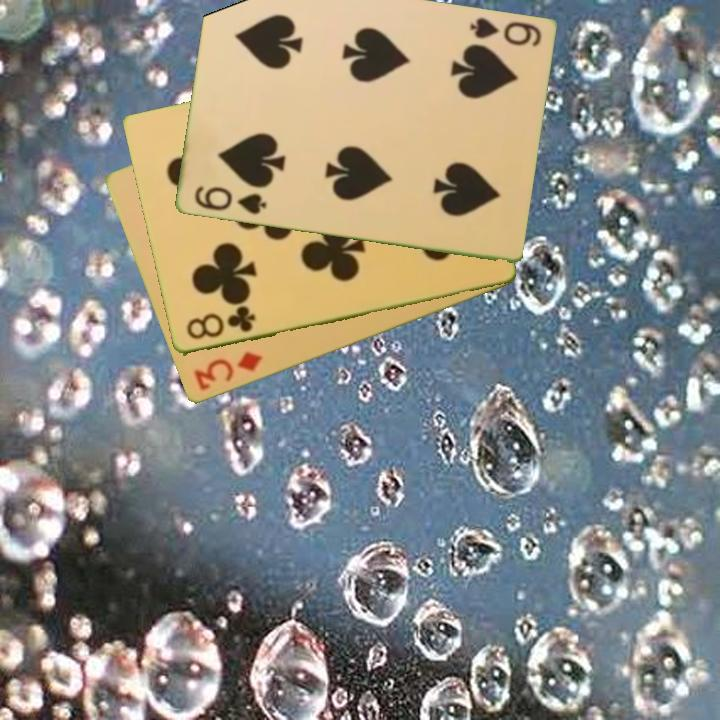3d: (190, 348, 265, 394)
6s: (466, 14, 544, 50), (190, 183, 269, 218)
8c: (182, 303, 258, 343)
